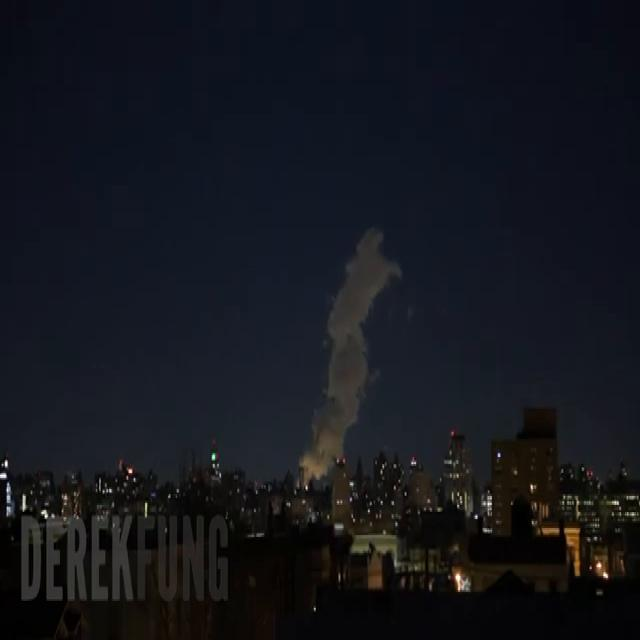smoke: (299, 229, 400, 478)
